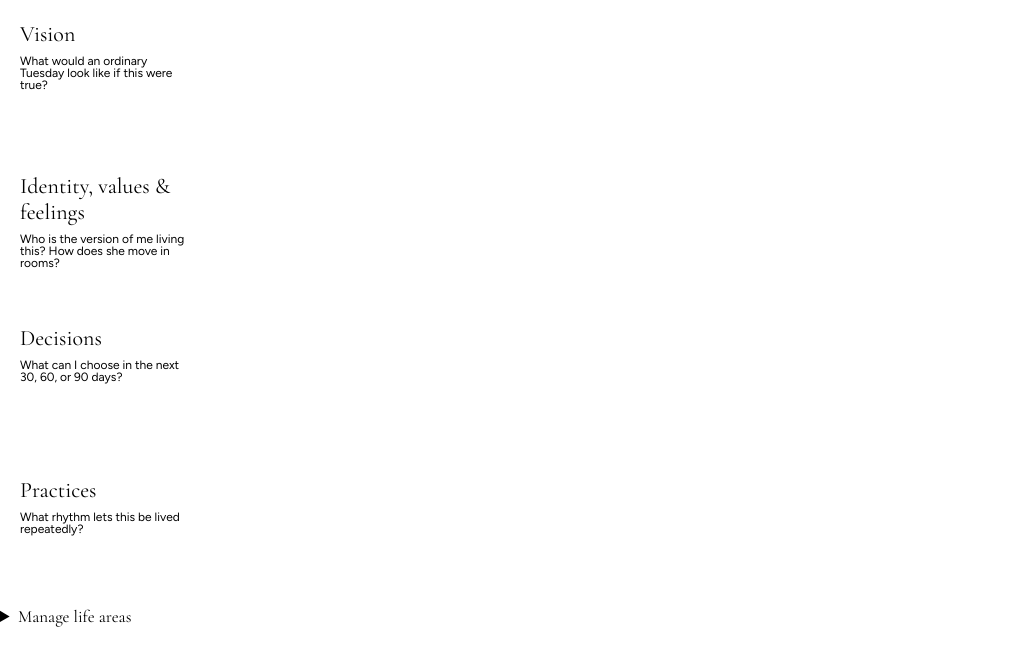
Test: LandscapePage › guides the manage-area fields with descriptions and ghost examples
The width and height of the screenshot is (1024, 645).
(page scrolled)
Click the heading "Manage life areas" at (75, 616), box [18,606,132,627]
(page scrolled)
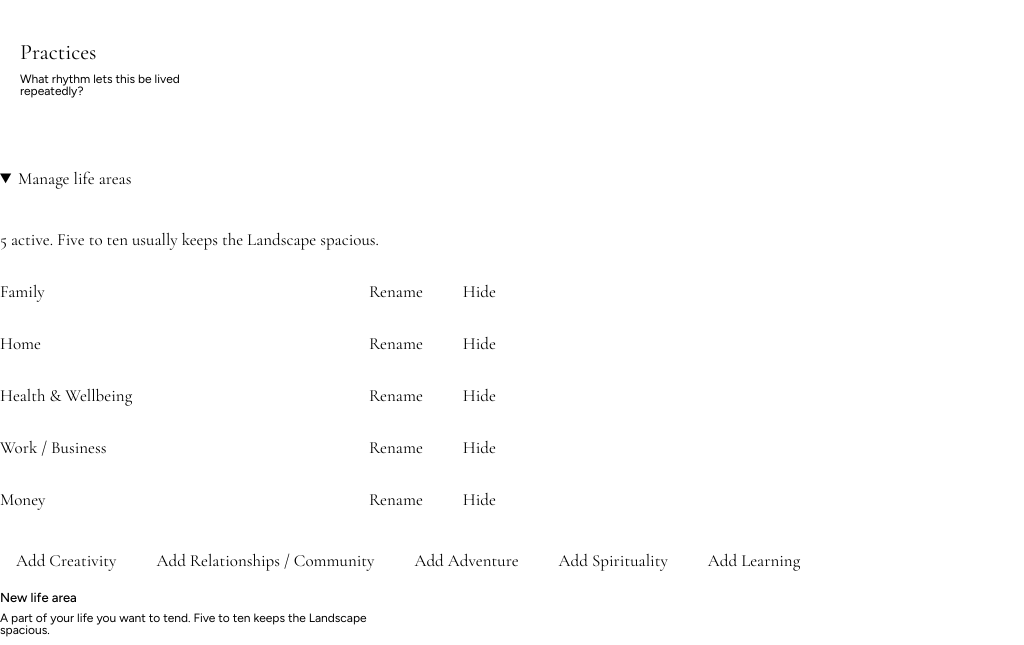
Check: the text "A part of your life you want to tend. Five to ten keeps the Landscape spacious." is shown, box [0,612,400,636]
Click the button with aria-label "Rename Home" at (396, 344), box [353,322,439,366]
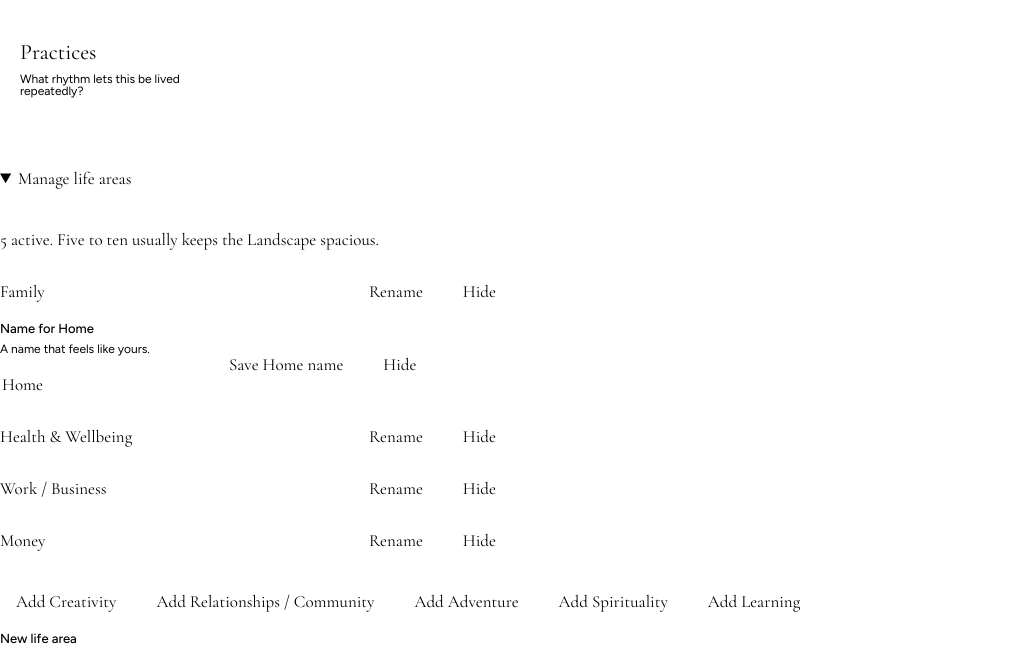
Check: the text "A name that feels like yours." is shown, box [0,342,150,356]
